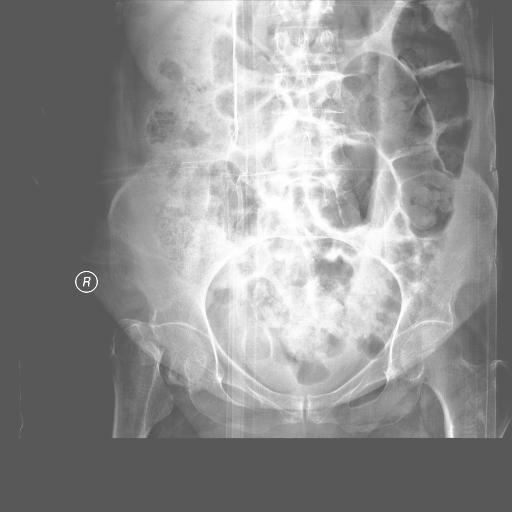neck: (110, 318, 173, 438), (153, 327, 207, 387)
normal: (401, 327, 512, 438)
